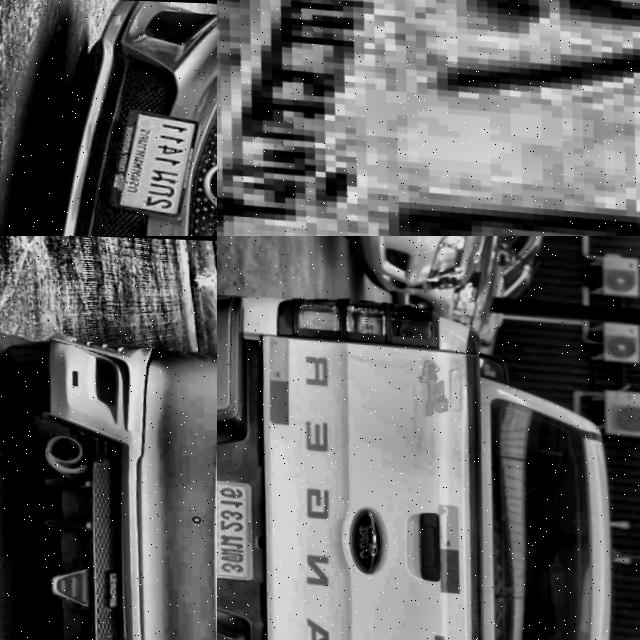license-plate: (217, 0, 640, 236), (105, 105, 207, 224), (217, 473, 258, 580)
